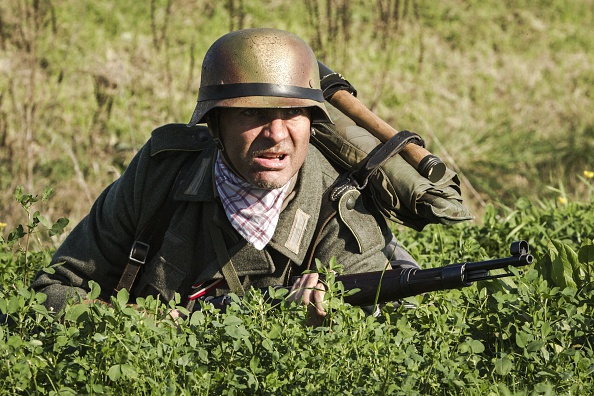deitado: (34, 33, 450, 325)
